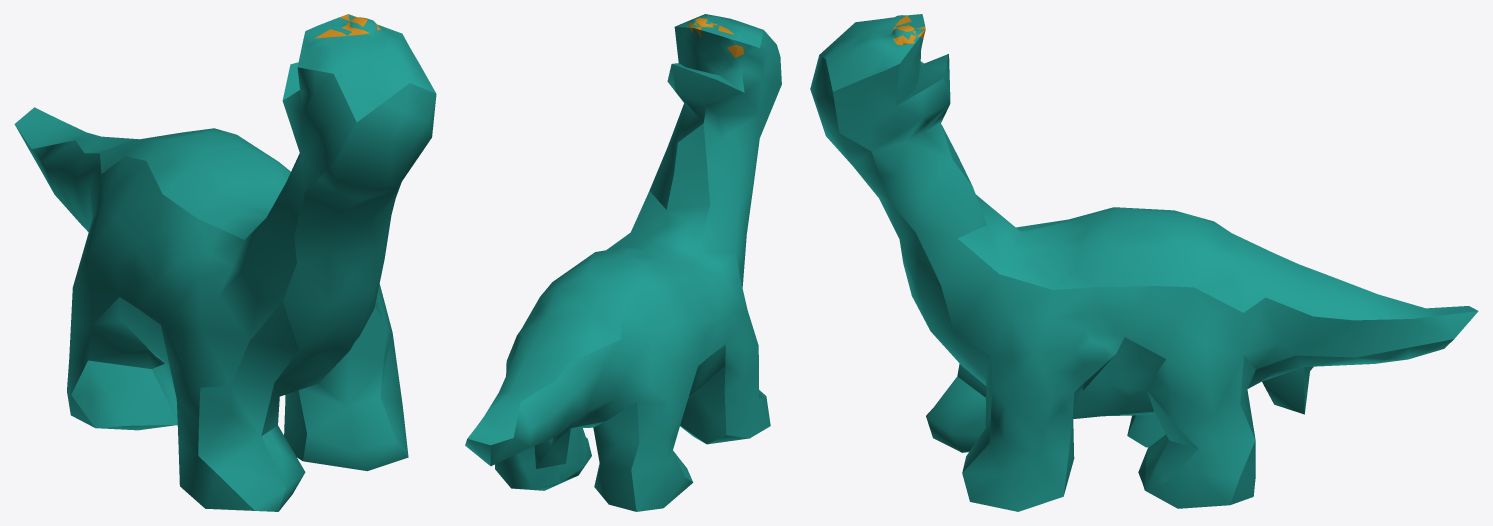
File: segmentation_mesh.glb
3 renders of one model, left to right at view 1: azimuth 30°, elevation 25°; view 2: azimuth 150°, elevation 25°; view 3: azimuth 270°, elevation 25°, orthographic. The views are drawn at different scales.
Parts seen in each view (by area): view 1: segmentation_map; view 2: segmentation_map; view 3: segmentation_map.
Boxes of the visible parts, x1,y1,x2,y2 form: segmentation_map: (14,14,436,511); segmentation_map: (465,14,781,511); segmentation_map: (810,14,1478,511).
Size of the model in its own units: 0.0683 by 0.1352 by 0.1834.
